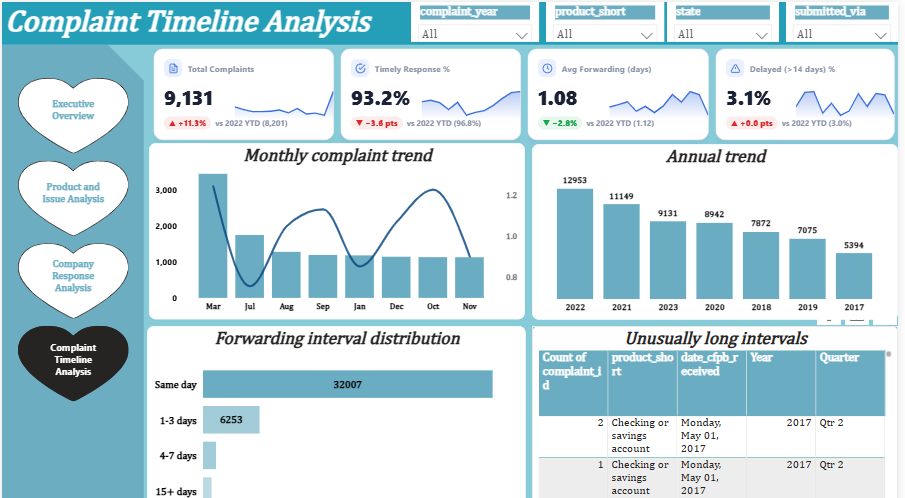

The dashboard page shown, as its layout file describes it:
{"tool":"powerbi","page":{"name":"Complaint Timeline Analysis","canvas":[1280,800],"ordinal":3},"visuals":[{"type":"htmlContent443BE3AD55E043BF878BED274D3A6855","fields":{"content":["new tml.Card Timely"]},"box":[478.7,61.4,267.7,207.9],"z":0},{"type":"htmlContent443BE3AD55E043BF878BED274D3A6855","fields":{"content":["COMPANY RESPONSE.Card AvgFwd"]},"box":[745.7,61.4,268.6,194.3],"z":1000},{"type":"htmlContent443BE3AD55E043BF878BED274D3A6855","fields":{"content":["new tml.Card Complaints"]},"box":[211,61.4,267.7,245.7],"z":2000},{"type":"htmlContent443BE3AD55E043BF878BED274D3A6855","fields":{"content":["COMPANY RESPONSE.Card Delayed"]},"box":[1014.3,61.4,265.7,227.1],"z":3000},{"type":"shape","box":[0,60.9,202.7,854.6],"z":4000},{"type":"textbox","box":[0,0,1280,61.4],"z":5000},{"type":"pageNavigator","box":[22.9,108.6,158.6,465.7],"z":6000},{"type":"lineClusteredColumnComboChart","title":"Monthly complaint trend ","fields":{"Y":["Count(complaints_db complaints_clean.complaint_id)"],"Category":["Calendar.Month"],"Y2":["FORWARDING INTERVAL (2).Avg Forwarding Interval (Days)"]},"box":[209.8,201.3,537.2,252.3],"z":7000},{"type":"slicer","fields":{"Values":["complaints_db complaints_clean.complaint_year"]},"box":[584.3,0,182.9,57.1],"z":8000},{"type":"slicer","fields":{"Values":["complaints_db complaints_clean.product_short"]},"box":[777.1,0,168.6,57.1],"z":9000},{"type":"barChart","title":"Forwarding interval distribution","fields":{"Y":["Count(complaints_db complaints_clean.complaint_id)"],"Category":["complaints_db complaints_clean.interval_bucket"],"Series":["complaints_db complaints_clean.interval_bucket"]},"box":[207.1,462.9,541.4,337.1],"z":10000},{"type":"slicer","fields":{"Values":["complaints_db complaints_clean.submitted_via"]},"box":[1120,0,160,57.1],"z":11000},{"type":"slicer","fields":{"Values":["complaints_db complaints_clean.state"]},"box":[950,0,160,57.1],"z":12000},{"type":"tableEx","title":"Unusually long intervals","fields":{"Values":["Count(complaints_db complaints_clean.complaint_id)","complaints_db complaints_clean.product_short","complaints_db complaints_clean.date_cfpb_received","complaints_db complaints_clean.date_sent_to_company.Variation.Date Hierarchy.Year","complaints_db complaints_clean.date_sent_to_company.Variation.Date Hierarchy.Quarter","complaints_db complaints_clean.date_sent_to_company.Variation.Date Hierarchy.Month","complaints_db complaints_clean.date_sent_to_company.Variation.Date Hierarchy.Day","Sum(complaints_db complaints_clean.forwarding_interval_days)"]},"box":[757.1,462.9,522.9,337.1],"z":13000},{"type":"clusteredColumnChart","title":"Annual trend","fields":{"Y":["Count(complaints_db complaints_clean.complaint_id)"],"Category":["Calendar.Year"]},"box":[757.1,202.9,522.9,251.4],"z":14000}]}

Visuals, with their boxes on the page's 1280x800 design canvas (x1, y1, x2, y2). These are canvas units, not pixel positions in the 905x498 screenshot, which may show the page scaled, cropped or inside an application window:
htmlContent443BE3AD55E043BF878BED274D3A6855 - new tml.Card Timely: x1=479, y1=61, x2=746, y2=269
htmlContent443BE3AD55E043BF878BED274D3A6855 - COMPANY RESPONSE.Card AvgFwd: x1=746, y1=61, x2=1014, y2=256
htmlContent443BE3AD55E043BF878BED274D3A6855 - new tml.Card Complaints: x1=211, y1=61, x2=479, y2=307
htmlContent443BE3AD55E043BF878BED274D3A6855 - COMPANY RESPONSE.Card Delayed: x1=1014, y1=61, x2=1280, y2=288
shape: x1=0, y1=61, x2=203, y2=916
textbox: x1=0, y1=0, x2=1280, y2=61
pageNavigator: x1=23, y1=109, x2=182, y2=574
"Monthly complaint trend " lineClusteredColumnComboChart: x1=210, y1=201, x2=747, y2=454
slicer - complaints_db complaints_clean.complaint_year: x1=584, y1=0, x2=767, y2=57
slicer - complaints_db complaints_clean.product_short: x1=777, y1=0, x2=946, y2=57
"Forwarding interval distribution" barChart: x1=207, y1=463, x2=748, y2=800
slicer - complaints_db complaints_clean.submitted_via: x1=1120, y1=0, x2=1280, y2=57
slicer - complaints_db complaints_clean.state: x1=950, y1=0, x2=1110, y2=57
"Unusually long intervals" tableEx: x1=757, y1=463, x2=1280, y2=800
"Annual trend" clusteredColumnChart: x1=757, y1=203, x2=1280, y2=454
